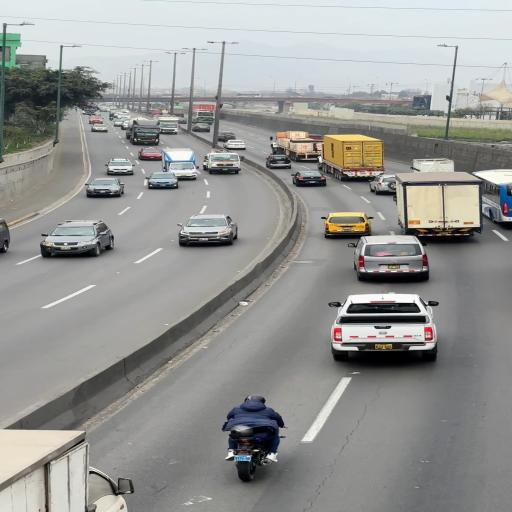auto: (326, 293, 437, 359), (346, 235, 428, 279), (38, 219, 113, 257), (176, 214, 238, 246), (321, 212, 371, 238), (202, 150, 242, 175), (81, 177, 127, 198), (126, 117, 161, 144), (145, 172, 181, 190), (290, 170, 328, 187), (370, 173, 398, 194), (104, 158, 134, 176), (265, 154, 293, 169), (157, 116, 180, 134), (137, 146, 163, 160), (222, 139, 246, 150), (216, 131, 236, 142), (192, 123, 210, 132), (90, 124, 108, 132), (109, 110, 123, 120), (113, 119, 128, 128), (88, 116, 104, 124)
bus: (0, 428, 95, 510), (392, 171, 482, 236), (324, 134, 384, 174), (277, 133, 323, 162), (159, 148, 197, 175), (411, 158, 454, 173), (191, 110, 214, 120), (83, 108, 98, 114), (150, 110, 164, 116)
camion: (219, 395, 287, 466)
